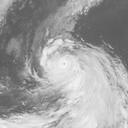cyclone: (40, 39, 110, 102)
